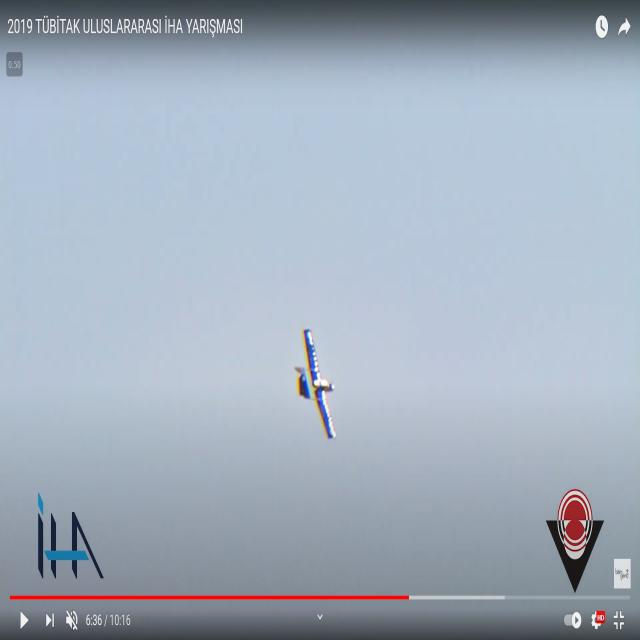iha: (293, 359, 340, 408)
